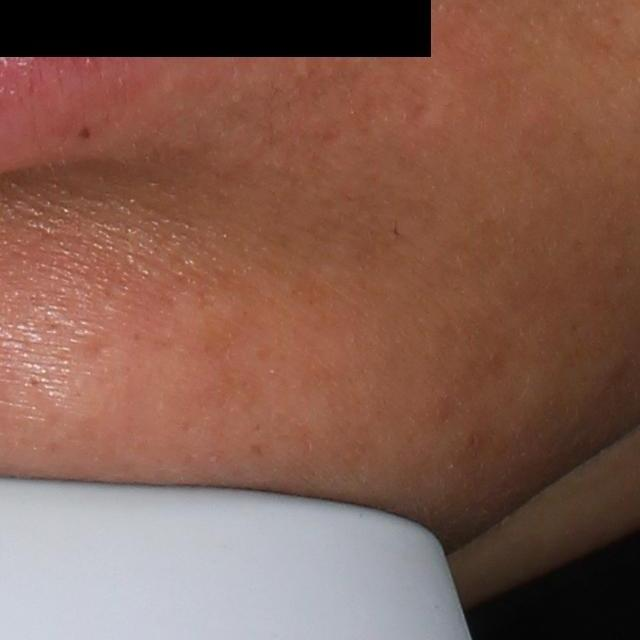nevus: (74, 121, 93, 142)
